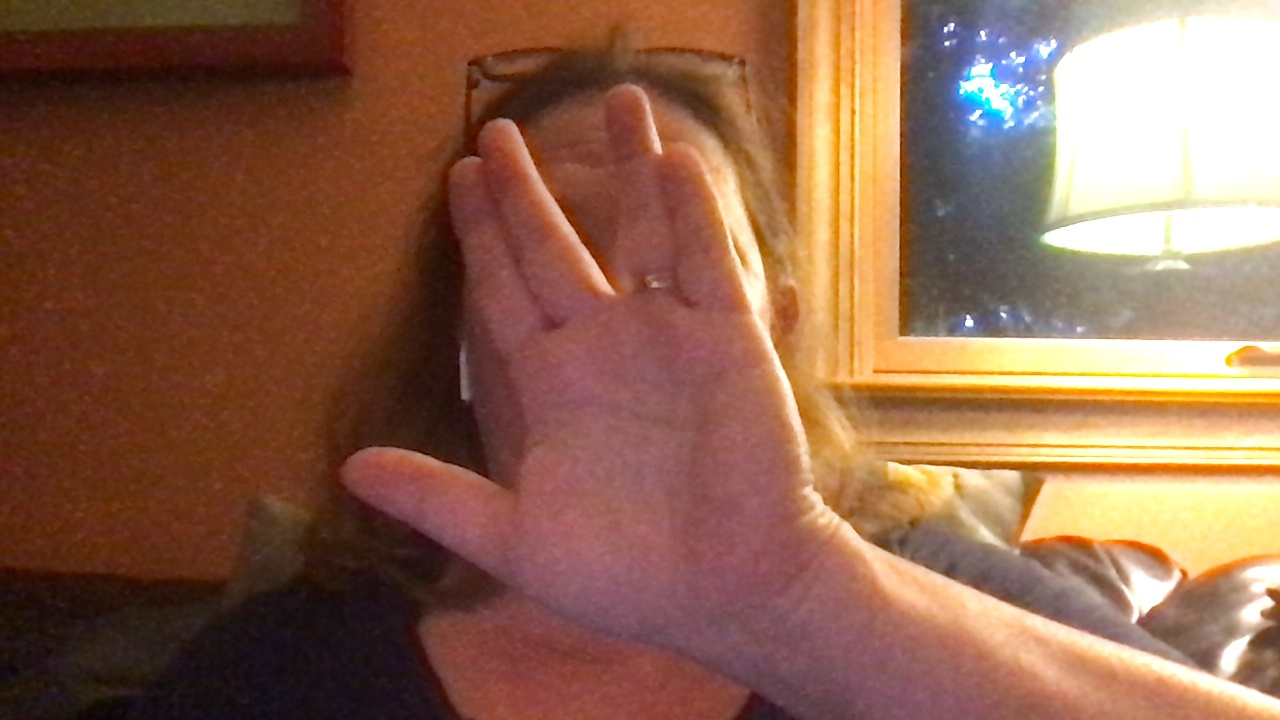livelong: (335, 80, 816, 636)
